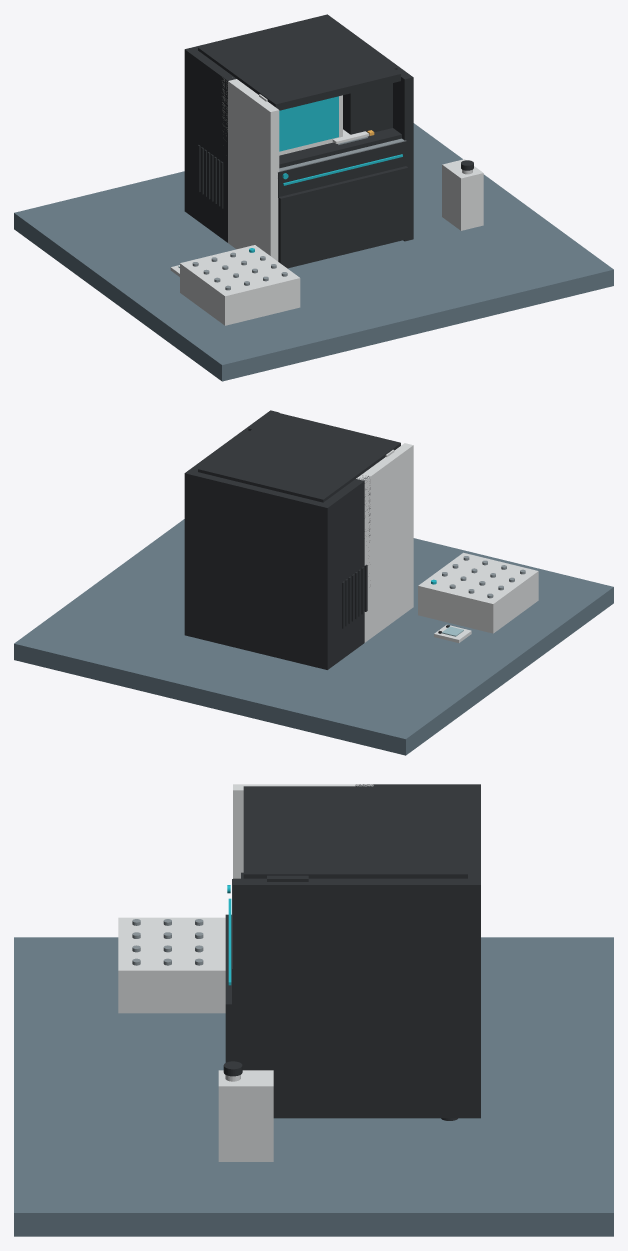
File: miniseq25.glb
3 renders of one model, top to bottom at view 1: azimuth 30°, elevation 25°; view 2: azimuth 150°, elevation 25°; view 3: azimuth 270°, elevation 25°, orthographic. The views are drawn at different scales.
Visible parts, largest first — view 1: environment.bench, body.top, reagentDoor.panel, body.left, body.rear, cart.body, front.statusPanel, bottle.body, screen.display, brand.panel, body.right, fcDoor.panel (+2 smaller); view 2: environment.bench, body.rear, body.top, body.left, cart.body; view 3: environment.bench, body.rear, body.right, body.top, cart.body, bottle.body, body.left, reagentDoor.panel.
Part boxes in pixels (<box>): environment.bench: <box>14,123,613,381</box>; body.top: <box>198,17,400,110</box>; reagentDoor.panel: <box>278,166,408,263</box>; body.left: <box>222,77,279,261</box>; body.rear: <box>184,14,368,242</box>; cart.body: <box>180,245,300,325</box>; front.statusPanel: <box>278,141,406,197</box>; bottle.body: <box>442,159,483,230</box>; screen.display: <box>279,96,338,151</box>; brand.panel: <box>343,57,397,134</box>; body.right: <box>360,41,413,241</box>; fcDoor.panel: <box>279,128,401,168</box>; environment.bench: <box>14,519,613,755</box>; body.rear: <box>184,441,370,669</box>; body.top: <box>198,412,400,502</box>; body.left: <box>356,443,413,642</box>; cart.body: <box>418,552,538,633</box>; environment.bench: <box>14,937,613,1236</box>; body.rear: <box>355,784,480,1118</box>; body.right: <box>233,878,373,1118</box>; body.top: <box>243,786,467,878</box>; cart.body: <box>118,917,225,1013</box>; bottle.body: <box>218,1070,273,1161</box>; body.left: <box>233,784,373,878</box>; reagentDoor.panel: <box>225,914,232,1062</box>.
Size of the model in its own units: 1.25 by 0.568 by 1.15.
